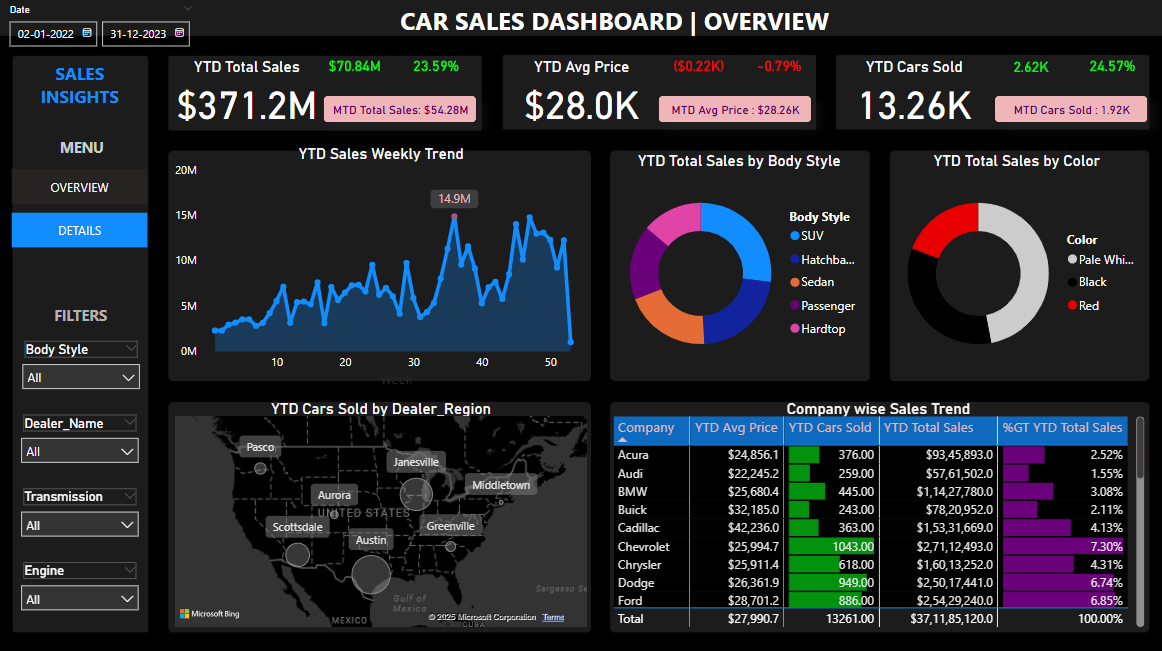

The page's visual inventory and layout, read from the dashboard file:
{"tool":"powerbi","page":{"name":"Page 1","canvas":[1280,720],"ordinal":0},"visuals":[{"type":"card","title":"YTD Total Sales","fields":{"Values":["car_data.YTD Total Sales"]},"box":[189.2,64.4,167.3,80.9],"z":0},{"type":"card","title":"Sales Difference","fields":{"Values":["car_data.Sales Difference"]},"box":[346.9,54.8,89.1,39.8],"z":1000},{"type":"card","title":"Sales Difference","fields":{"Values":["car_data.YoY Sales Growth"]},"box":[436,54.8,89.1,39.8],"z":2000},{"type":"card","fields":{"Values":["car_data.MTD KPI"]},"box":[356.5,105.6,168.6,30.2],"z":3000},{"type":"card","title":"YTD Avg Price","fields":{"Values":["car_data.YTD Avg Price"]},"box":[556.6,64.4,167.3,80.9],"z":4000},{"type":"card","title":"Sales Difference","fields":{"Values":["car_data.Avg Price Diff"]},"box":[723.9,54.8,89.1,39.8],"z":5000},{"type":"card","title":"Sales Difference","fields":{"Values":["car_data.YoY Avg Price Growth"]},"box":[813,54.8,89.1,39.8],"z":6000},{"type":"card","fields":{"Values":["car_data.MTD Avg Price KPI"]},"box":[723.9,105.6,168.6,30.2],"z":7000},{"type":"card","title":"YTD Cars Sold","fields":{"Values":["car_data.YTD Cars Sold"]},"box":[922.7,64.4,167.3,80.9],"z":8000},{"type":"card","title":"Sales Difference","fields":{"Values":["car_data.Cars Difference"]},"box":[1090,56.2,89.1,39.8],"z":9000},{"type":"card","title":"Sales Difference","fields":{"Values":["car_data.Cars Growth"]},"box":[1179.1,54.8,89.1,39.8],"z":10000},{"type":"card","fields":{"Values":["car_data.MTD Cars Sold KPI"]},"box":[1094.1,105.6,168.6,30.2],"z":11000},{"type":"areaChart","title":"YTD Sales Weekly Trend","fields":{"Category":["Calender Table.Week"],"Y":["Sum(car_data.Price ($))","car_data.Max Point on AC"]},"box":[189.2,159,462,271.5],"z":12000},{"type":"donutChart","fields":{"Category":["car_data.Body Style"],"Y":["car_data.YTD Total Sales"]},"box":[669.1,167.3,287.9,253.6],"z":13000},{"type":"donutChart","fields":{"Y":["car_data.YTD Total Sales"],"Category":["car_data.Color"]},"box":[974.8,167.3,287.9,253.6],"z":14000},{"type":"map","fields":{"Category":["car_data.Dealer_Region"],"Size":["car_data.YTD Cars Sold"]},"box":[189.2,438.7,462,255],"z":15000},{"type":"tableEx","title":"Company wise Sales Trend","fields":{"Values":["car_data.Company","car_data.YTD Avg Price","car_data.YTD Cars Sold","car_data.YTD Total Sales1","car_data.YTD Total Sales"]},"box":[669.1,438.7,593.7,255],"z":16000},{"type":"slicer","fields":{"Values":["car_data.Body Style"]},"box":[16.5,370.2,149.4,80.9],"z":17000},{"type":"slicer","fields":{"Values":["car_data.Dealer_Name"]},"box":[15.1,451.1,149.4,80.9],"z":18000},{"type":"slicer","fields":{"Values":["car_data.Transmission"]},"box":[15.1,532,149.4,80.9],"z":19000},{"type":"slicer","fields":{"Values":["car_data.Engine"]},"box":[15.1,612.9,149.4,80.9],"z":20000},{"type":"textbox","box":[346.9,0,659.5,54.8],"z":21000},{"type":"slicer","fields":{"Values":["car_data.Gender"]},"box":[13.7,209.8,150.8,79.5],"z":22000},{"type":"slicer","fields":{"Values":["car_data.Color"]},"box":[16.5,286.5,150.8,83.6],"z":23000},{"type":"textbox","box":[15.1,64.4,149.4,60.3],"z":24000},{"type":"slicer","fields":{"Values":["Calender Table.Month"]},"box":[13.7,126.1,150.8,83.6],"z":25000},{"type":"slicer","fields":{"Values":["Calender Table.Date"]},"box":[0,0,226.2,75.4],"z":25001}]}

Visuals, with their boxes in screenshot pixels (x1, y1, x2, y2), scaled from the page's 1280x720 canvas onto the 1162x651 screenshot:
"YTD Total Sales" card: Rect(172, 58, 324, 131)
"Sales Difference" card: Rect(315, 50, 396, 86)
"Sales Difference" card: Rect(396, 50, 477, 86)
card - car_data.MTD KPI: Rect(324, 95, 477, 123)
"YTD Avg Price" card: Rect(505, 58, 657, 131)
"Sales Difference" card: Rect(657, 50, 738, 86)
"Sales Difference" card: Rect(738, 50, 819, 86)
card - car_data.MTD Avg Price KPI: Rect(657, 95, 810, 123)
"YTD Cars Sold" card: Rect(838, 58, 990, 131)
"Sales Difference" card: Rect(990, 51, 1070, 87)
"Sales Difference" card: Rect(1070, 50, 1151, 86)
card - car_data.MTD Cars Sold KPI: Rect(993, 95, 1146, 123)
"YTD Sales Weekly Trend" areaChart: Rect(172, 144, 591, 389)
donutChart - car_data.Body Style x car_data.YTD Total Sales: Rect(607, 151, 869, 381)
donutChart - car_data.YTD Total Sales x car_data.Color: Rect(885, 151, 1146, 381)
map - car_data.Dealer_Region x car_data.YTD Cars Sold: Rect(172, 397, 591, 627)
"Company wise Sales Trend" tableEx: Rect(607, 397, 1146, 627)
slicer - car_data.Body Style: Rect(15, 335, 151, 408)
slicer - car_data.Dealer_Name: Rect(14, 408, 149, 481)
slicer - car_data.Transmission: Rect(14, 481, 149, 554)
slicer - car_data.Engine: Rect(14, 554, 149, 627)
textbox: Rect(315, 0, 914, 50)
slicer - car_data.Gender: Rect(12, 190, 149, 262)
slicer - car_data.Color: Rect(15, 259, 152, 335)
textbox: Rect(14, 58, 149, 113)
slicer - Calender Table.Month: Rect(12, 114, 149, 190)
slicer - Calender Table.Date: Rect(0, 0, 205, 68)
